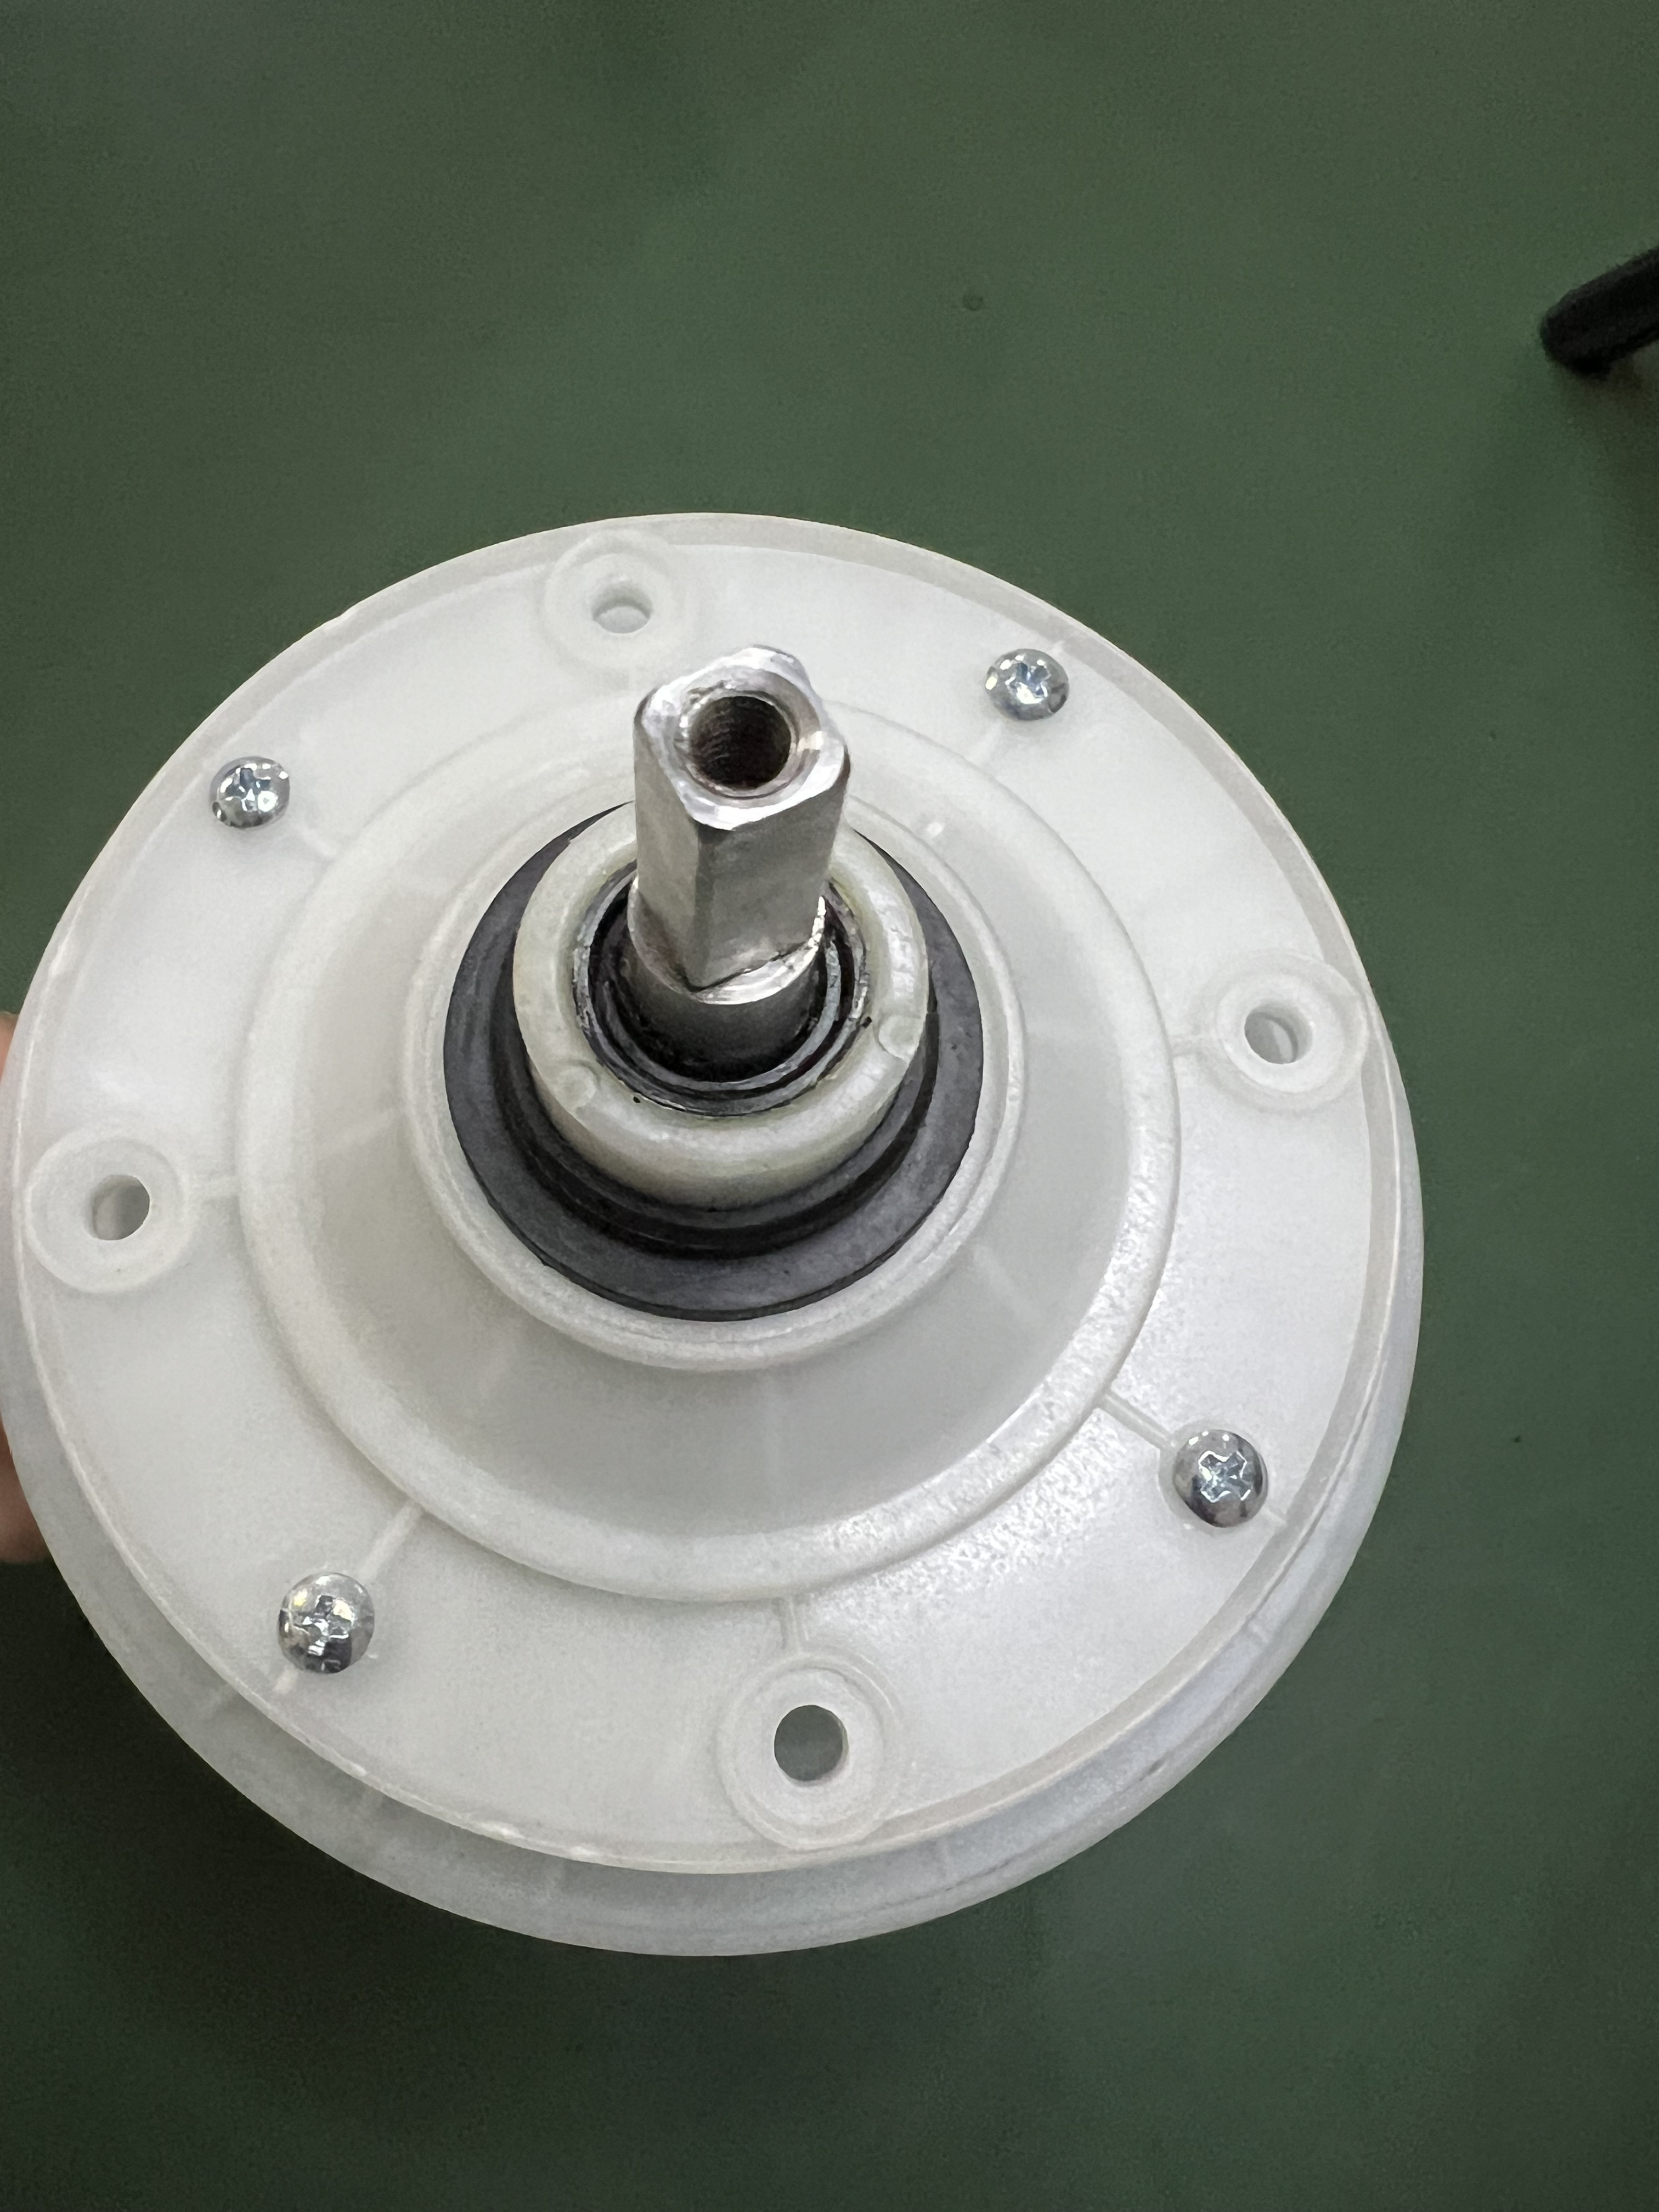gear_box_ovul: (4, 509, 1430, 1955)
